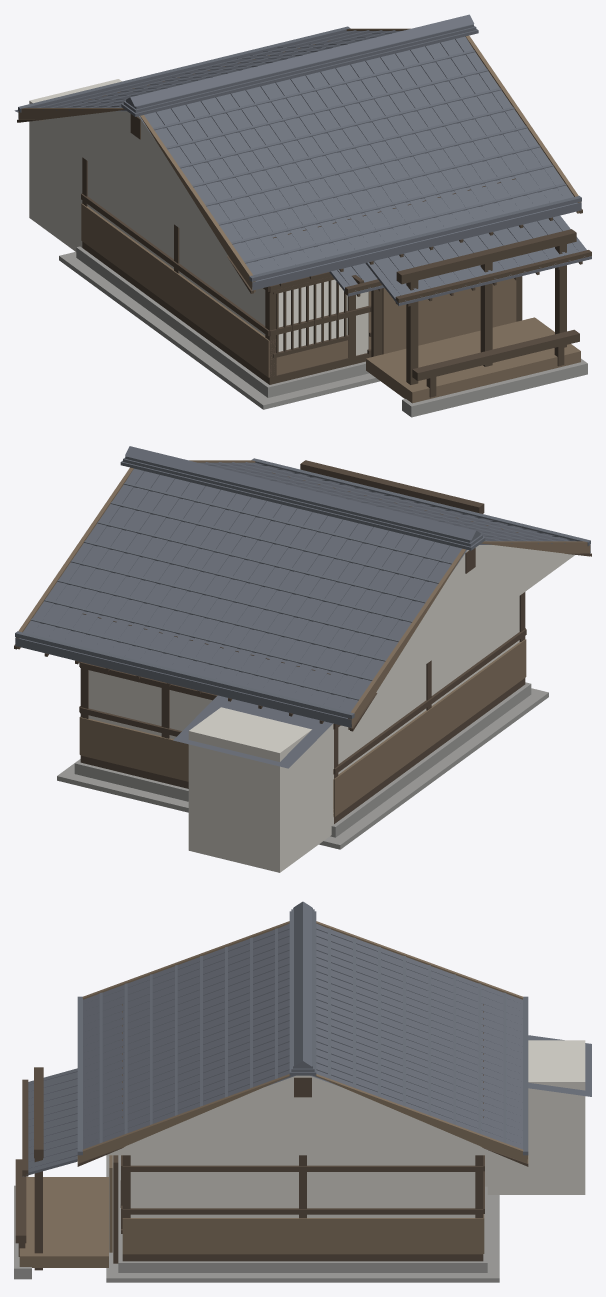
The model's file is family_small_merchant_02.glb.
3 renders of one model, top to bottom at view 1: azimuth 30°, elevation 25°; view 2: azimuth 150°, elevation 25°; view 3: azimuth 270°, elevation 25°, orthographic. The views are drawn at different scales.
Visible parts, largest first — view 1: family_small_merchant_02; view 2: family_small_merchant_02; view 3: family_small_merchant_02.
Part boxes in pixels (left/top/right/bottom): family_small_merchant_02: left=14, top=14, right=591, bottom=417; family_small_merchant_02: left=14, top=446, right=591, bottom=872; family_small_merchant_02: left=14, top=901, right=591, bottom=1282.
Bounding box in the file's own units: 7.2 × 4.91 × 10.9.
